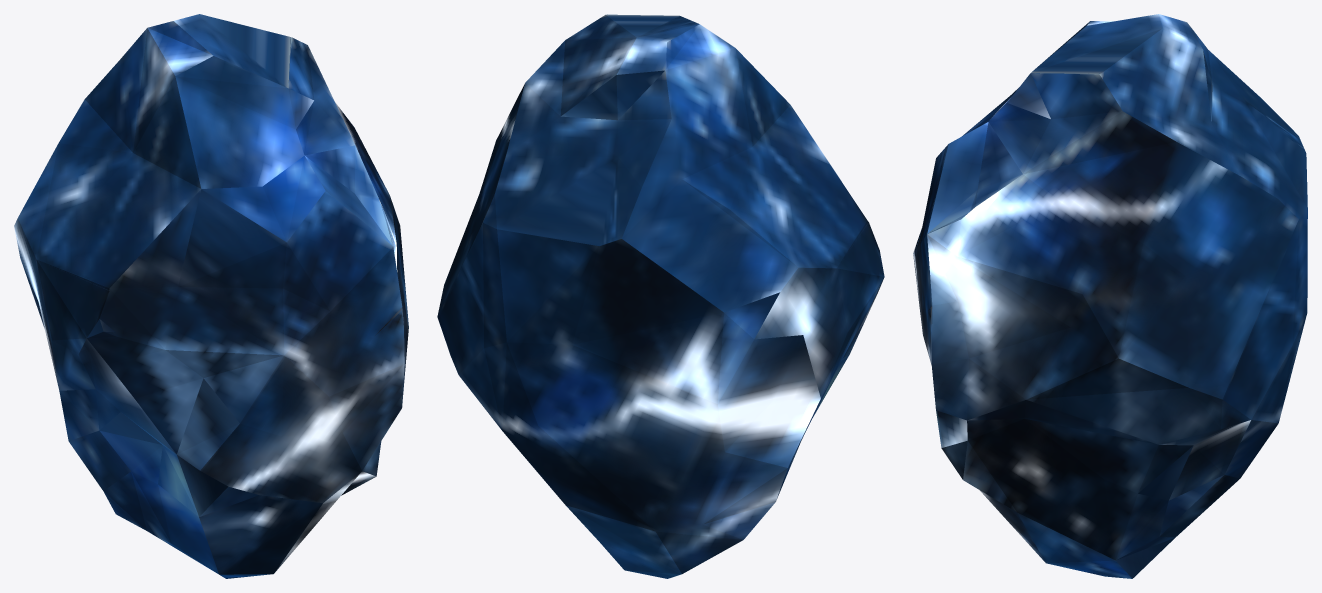
The model's file is meteor_blue_silence_crystal_01.glb.
3 views of the same model, side by side, from view 1: azimuth 30°, elevation 25°; view 2: azimuth 150°, elevation 25°; view 3: azimuth 270°, elevation 25° (orthographic). The views are drawn at different scales.
Parts seen in each view (by area): view 1: Mesh_0; view 2: Mesh_0; view 3: Mesh_0.
Boxes of the visible parts, <box> form: Mesh_0: <box>14,14,408,578</box>; Mesh_0: <box>437,14,884,578</box>; Mesh_0: <box>913,14,1307,578</box>.
Bounding box in the file's own units: 1.31 × 1.91 × 1.25.
Materials: 1 (1 with a texture image).
